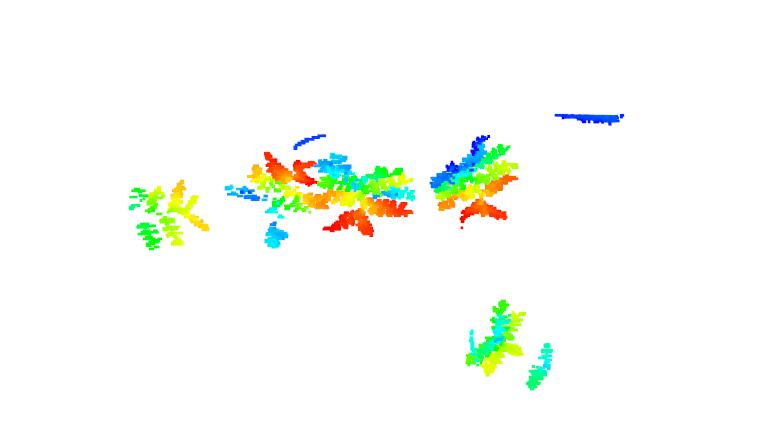chickpea: (223, 149, 319, 252), (310, 150, 420, 239), (427, 130, 519, 233), (129, 176, 213, 253), (464, 298, 526, 379), (524, 341, 562, 389)
